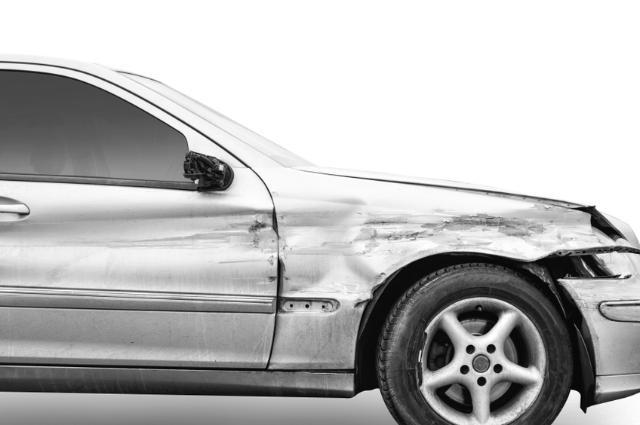Bumper: (566, 268, 640, 396)
Door: (84, 198, 271, 361)
Fender: (275, 178, 596, 365)
